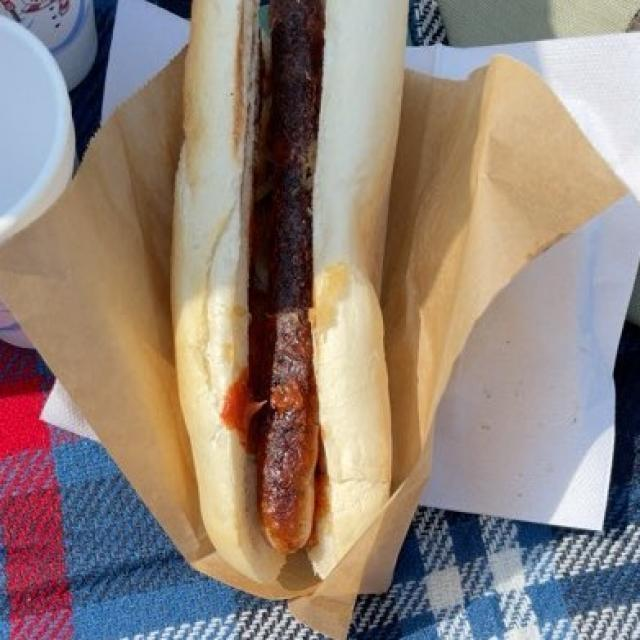bread: (171, 6, 405, 606)
ketchup: (230, 372, 254, 442)
sausage: (248, 7, 329, 570)
